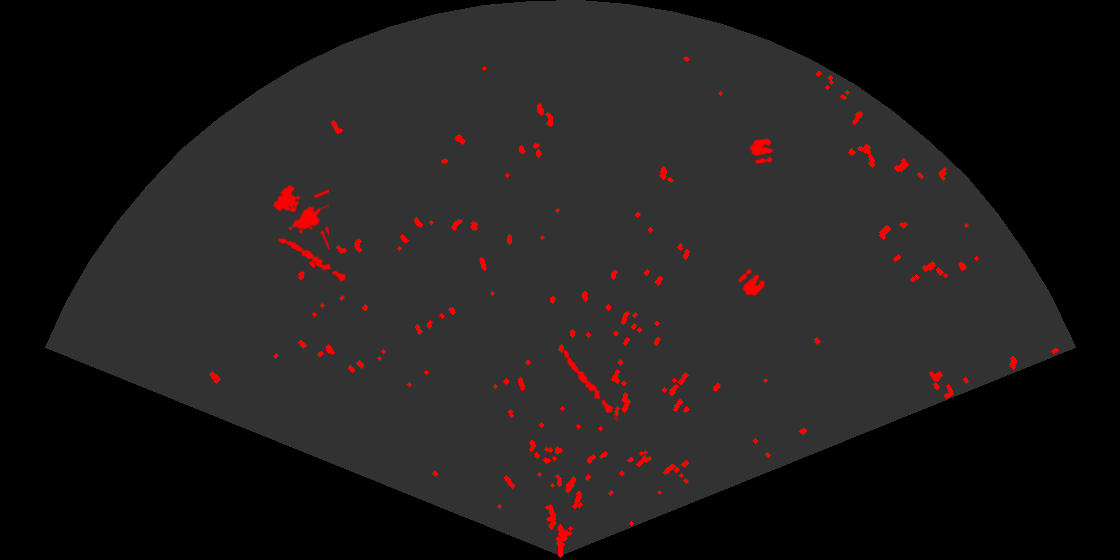ball: (737, 268, 767, 297), (748, 137, 775, 165)
cage: (272, 183, 329, 249)
chain: (562, 348, 619, 424), (276, 236, 355, 287)
